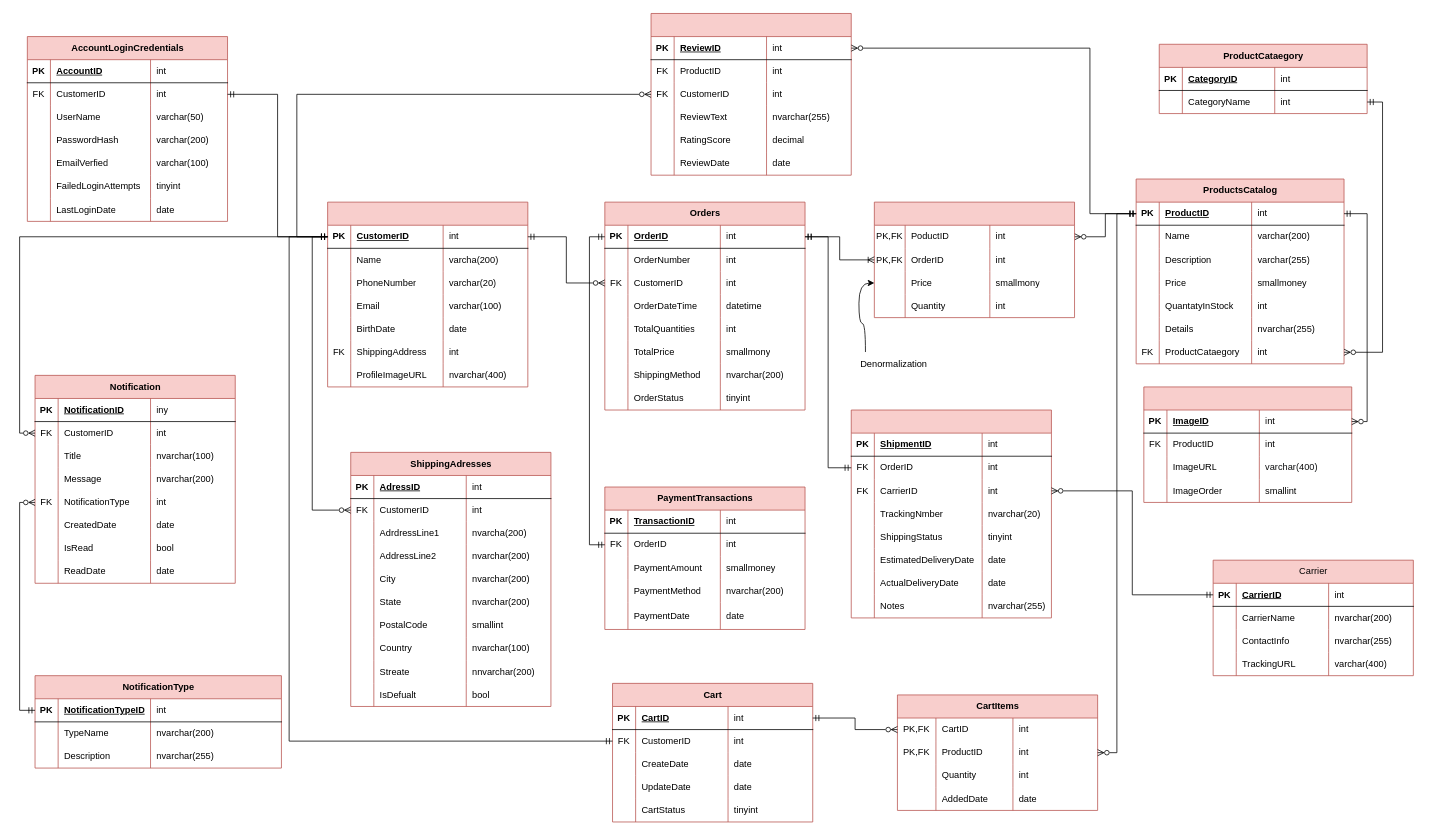
Some shapes in this 1433 by 835 pixel diagram are drawn without their labels. Here are the shapes that lost their labels. From the top down, the box of each, then its label:
(650, 13, 851, 175): CustomersReviews
(874, 201, 1075, 318): OrderItems
(327, 201, 528, 387): Customers
(1143, 386, 1352, 502): ProductImages
(850, 409, 1051, 618): Shipments
